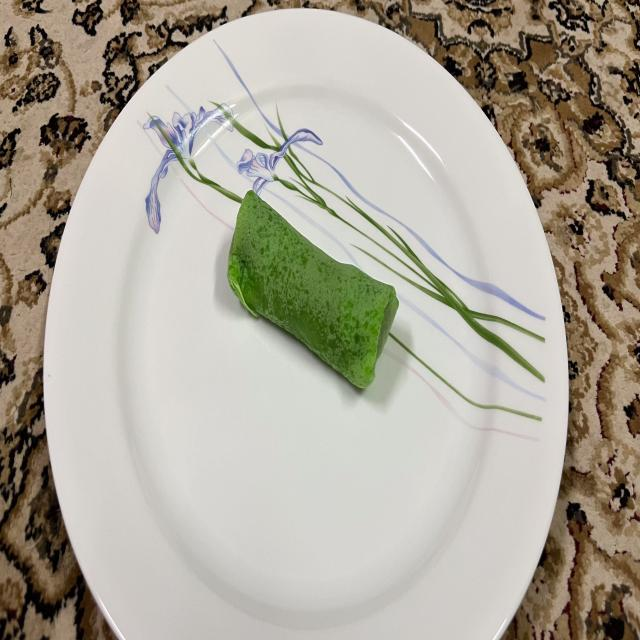Kuih-Ketayap: (228, 191, 399, 389)
